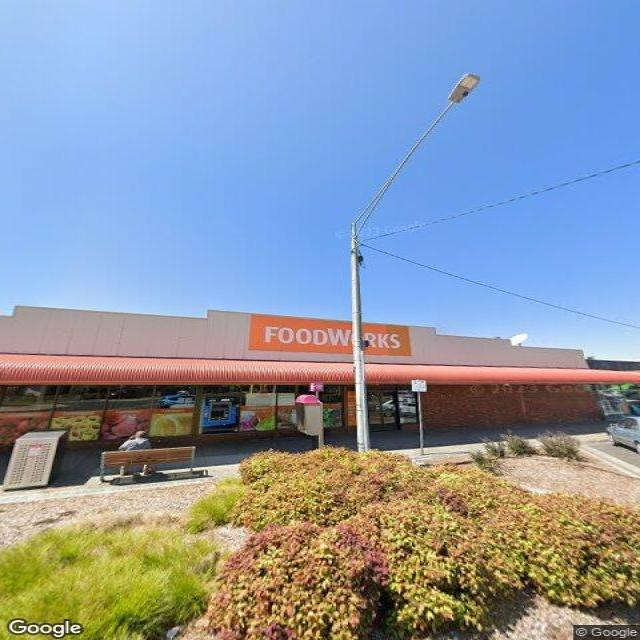concrete-pole: (350, 222, 370, 453)
streetlight: (353, 73, 480, 241)
